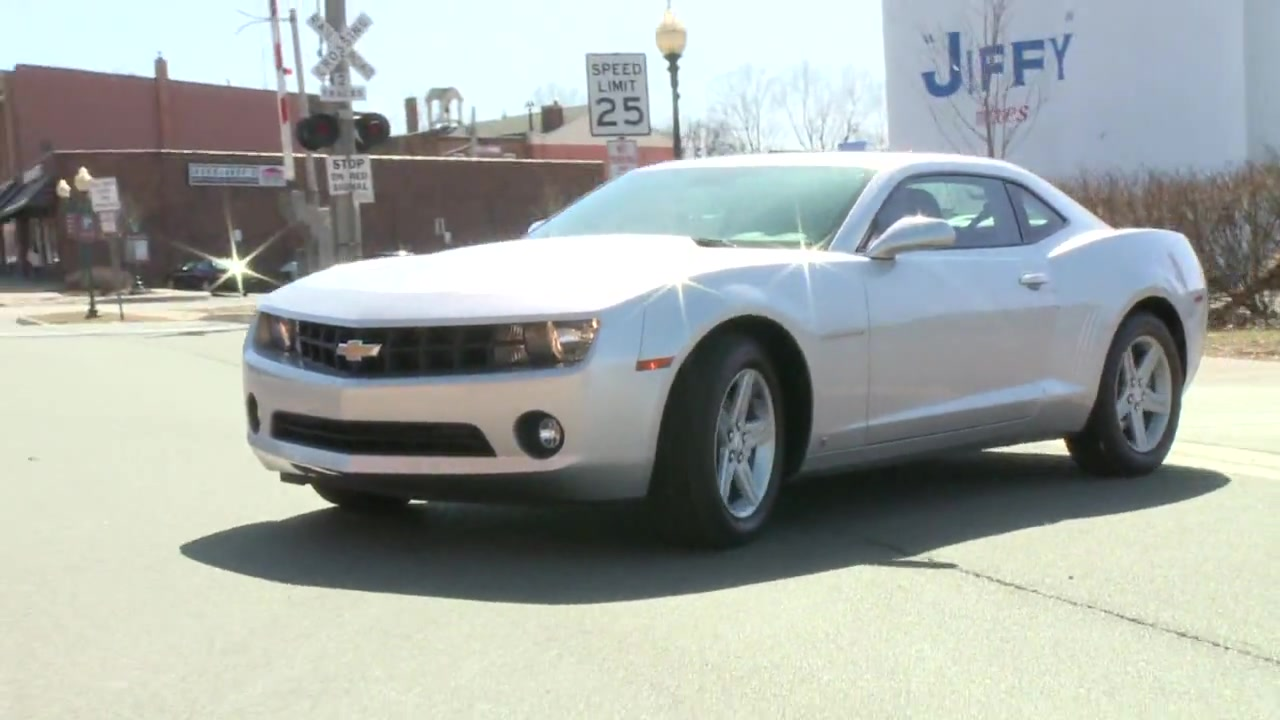car: (234, 143, 1211, 547)
